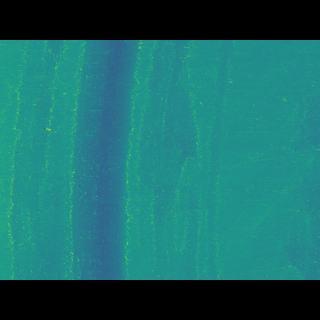Loch: (69, 70, 139, 251), (7, 69, 59, 251)
